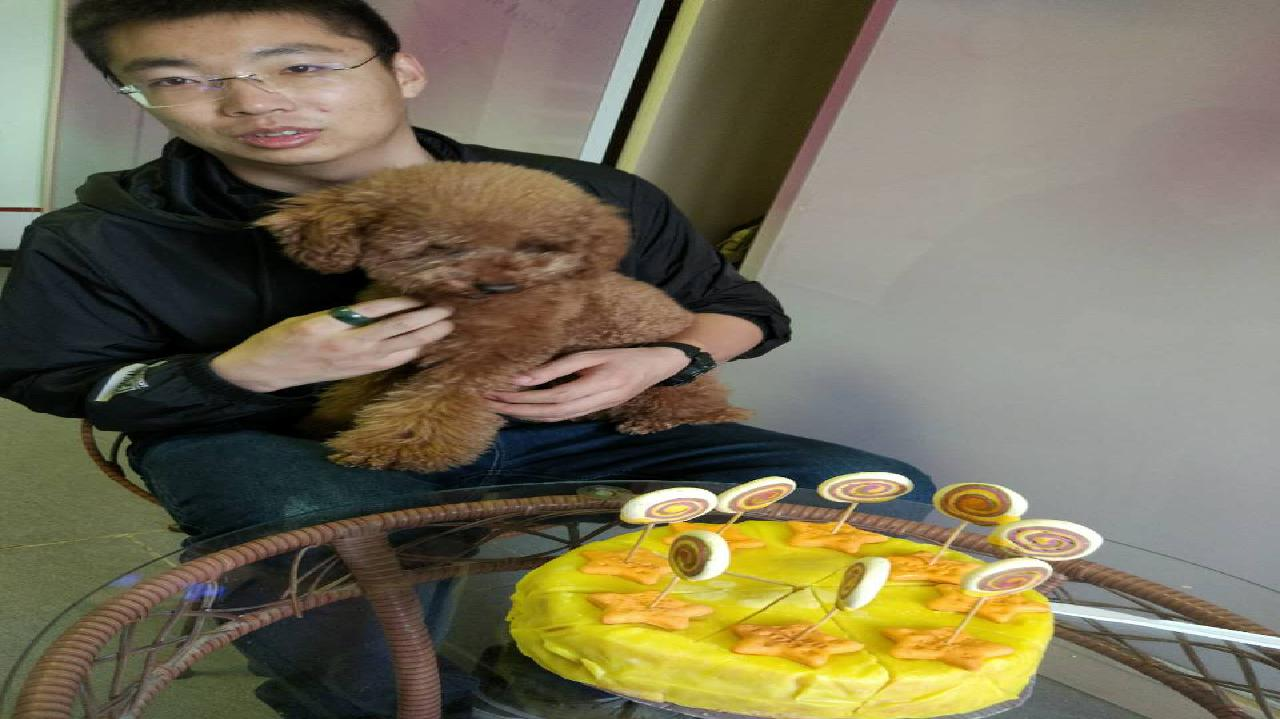zhuangzhuang: (275, 165, 695, 462)
